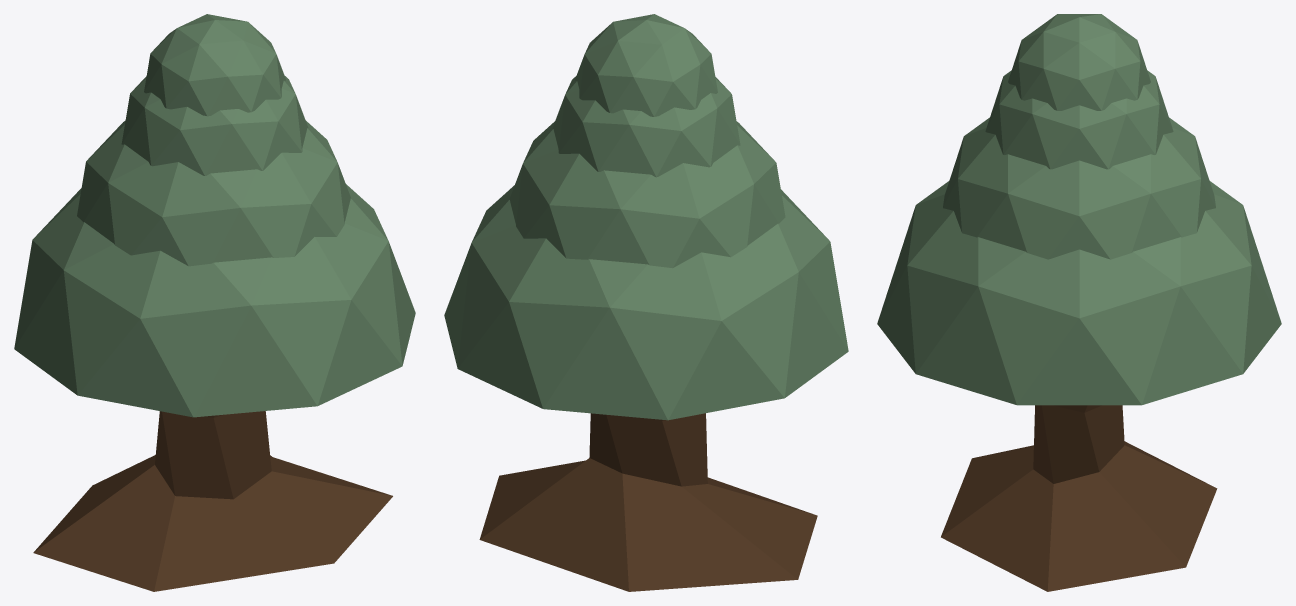
File: balls tree.fbx
3 views of the same model, side by side, from view 1: azimuth 30°, elevation 25°; view 2: azimuth 150°, elevation 25°; view 3: azimuth 270°, elevation 25° (orthographic). The views are drawn at different scales.
Parts seen in each view (by area): view 1: ball style tree.004, heavy tree trunk, ball style tree.003, ball style tree.002, ball style tree.001; view 2: ball style tree.004, heavy tree trunk, ball style tree.003, ball style tree.002, ball style tree.001; view 3: ball style tree.004, heavy tree trunk, ball style tree.003, ball style tree.002, ball style tree.001.
Part boxes in pixels (x1,y1,x2,y2): ball style tree.004: [14, 184, 415, 417]; heavy tree trunk: [33, 411, 392, 591]; ball style tree.003: [77, 120, 350, 266]; ball style tree.002: [121, 76, 308, 175]; ball style tree.001: [144, 14, 285, 116]; ball style tree.004: [444, 185, 848, 420]; heavy tree trunk: [479, 413, 817, 591]; ball style tree.003: [509, 121, 785, 268]; ball style tree.002: [552, 76, 740, 177]; ball style tree.001: [575, 14, 717, 116]; ball style tree.004: [877, 181, 1281, 405]; heavy tree trunk: [941, 405, 1217, 591]; ball style tree.003: [943, 117, 1215, 259]; ball style tree.002: [985, 70, 1173, 169]; ball style tree.001: [1008, 14, 1150, 110].
Size of the model in its own units: 5.74 by 8.17 by 6.04.
Materials: 2 (2 with a texture image).
